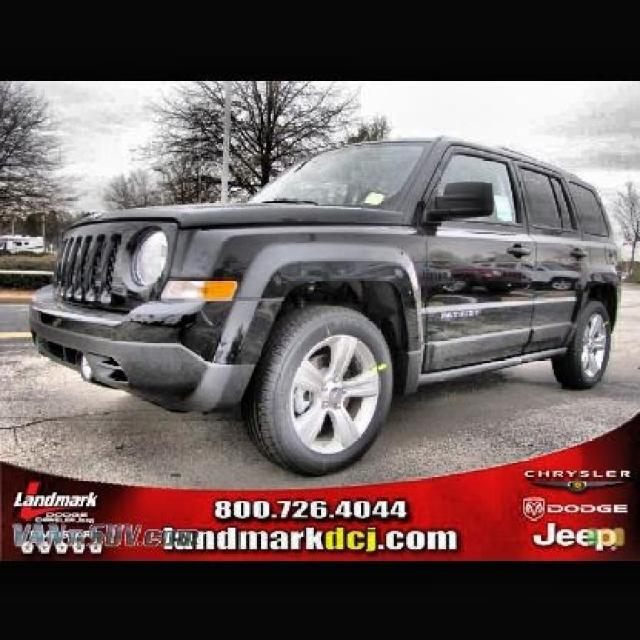black: (35, 126, 640, 412)
